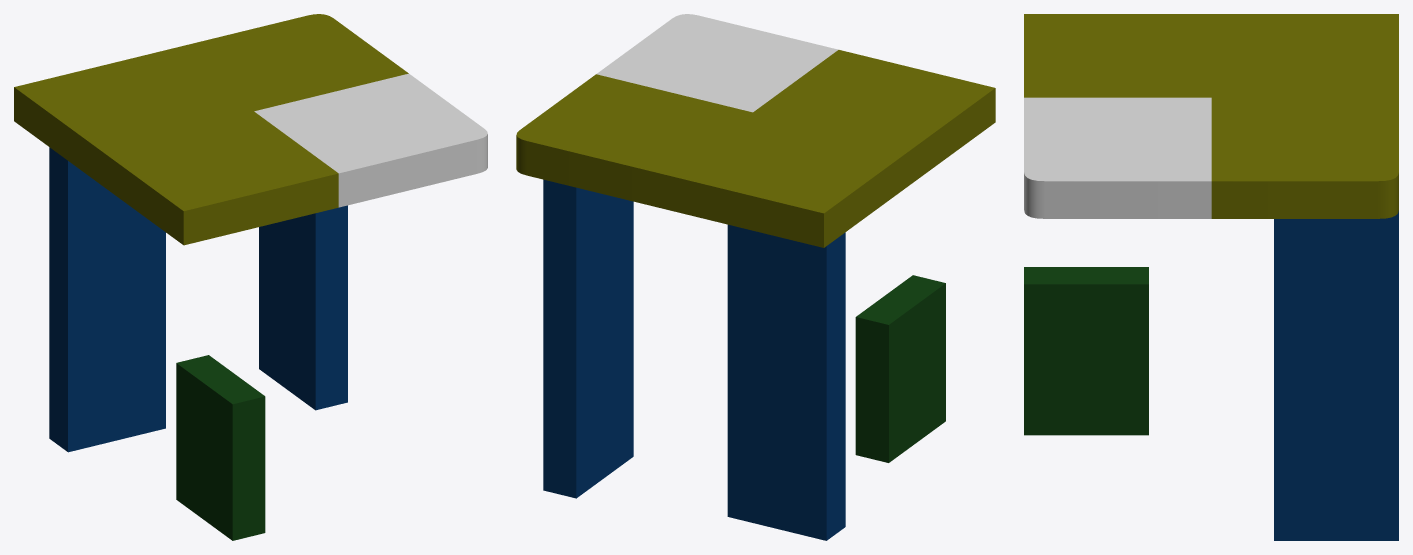
The model's file is T3DirF.fbx.
3 renders of one model, left to right at view 1: azimuth 30°, elevation 25°; view 2: azimuth 150°, elevation 25°; view 3: azimuth 270°, elevation 25°, orthographic. The views are drawn at different scales.
Visible parts, largest first — view 1: 4, 3, 2, 1; view 2: 4, 2, 3, 1; view 3: 2, 3, 1, 4.
Boxes of the visible parts, left/top/right/bottom form: 4: left=14, top=49, right=253, bottom=452; 3: left=99, top=111, right=338, bottom=540; 2: left=169, top=14, right=408, bottom=410; 1: left=254, top=73, right=487, bottom=207; 4: left=667, top=112, right=909, bottom=540; 2: left=516, top=74, right=752, bottom=498; 3: left=753, top=50, right=995, bottom=462; 1: left=596, top=14, right=838, bottom=112; 2: left=1211, top=97, right=1398, bottom=540; 3: left=1024, top=14, right=1211, bottom=435; 1: left=1024, top=97, right=1211, bottom=218; 4: left=1211, top=14, right=1398, bottom=97.
Size of the model in its own units: 190 by 200 by 180.
